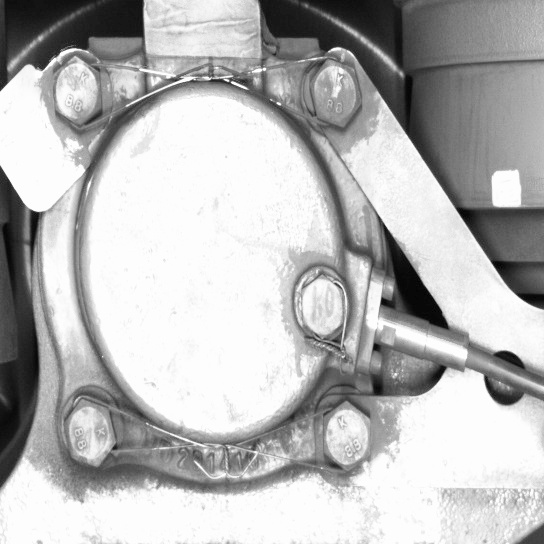IronWire: (51, 384, 379, 483), (40, 42, 368, 137)
Screw: (40, 46, 118, 140), (53, 387, 125, 481), (302, 49, 367, 137), (316, 390, 377, 481), (292, 265, 352, 348)
